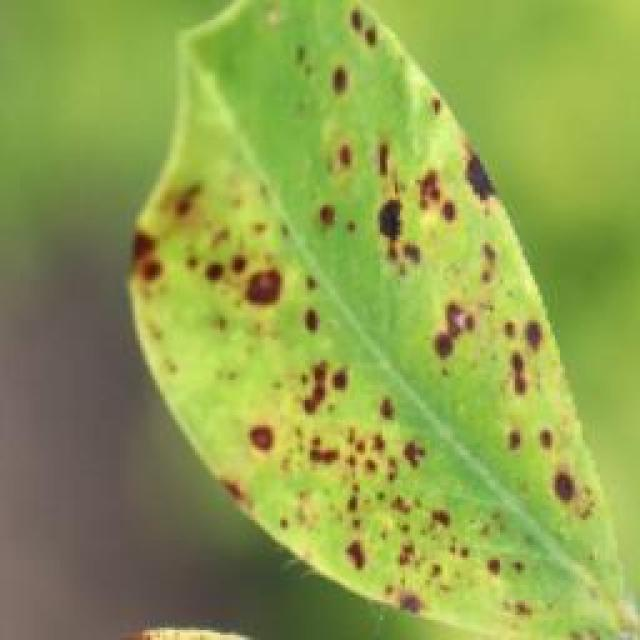Yellowish: (120, 8, 600, 621)
